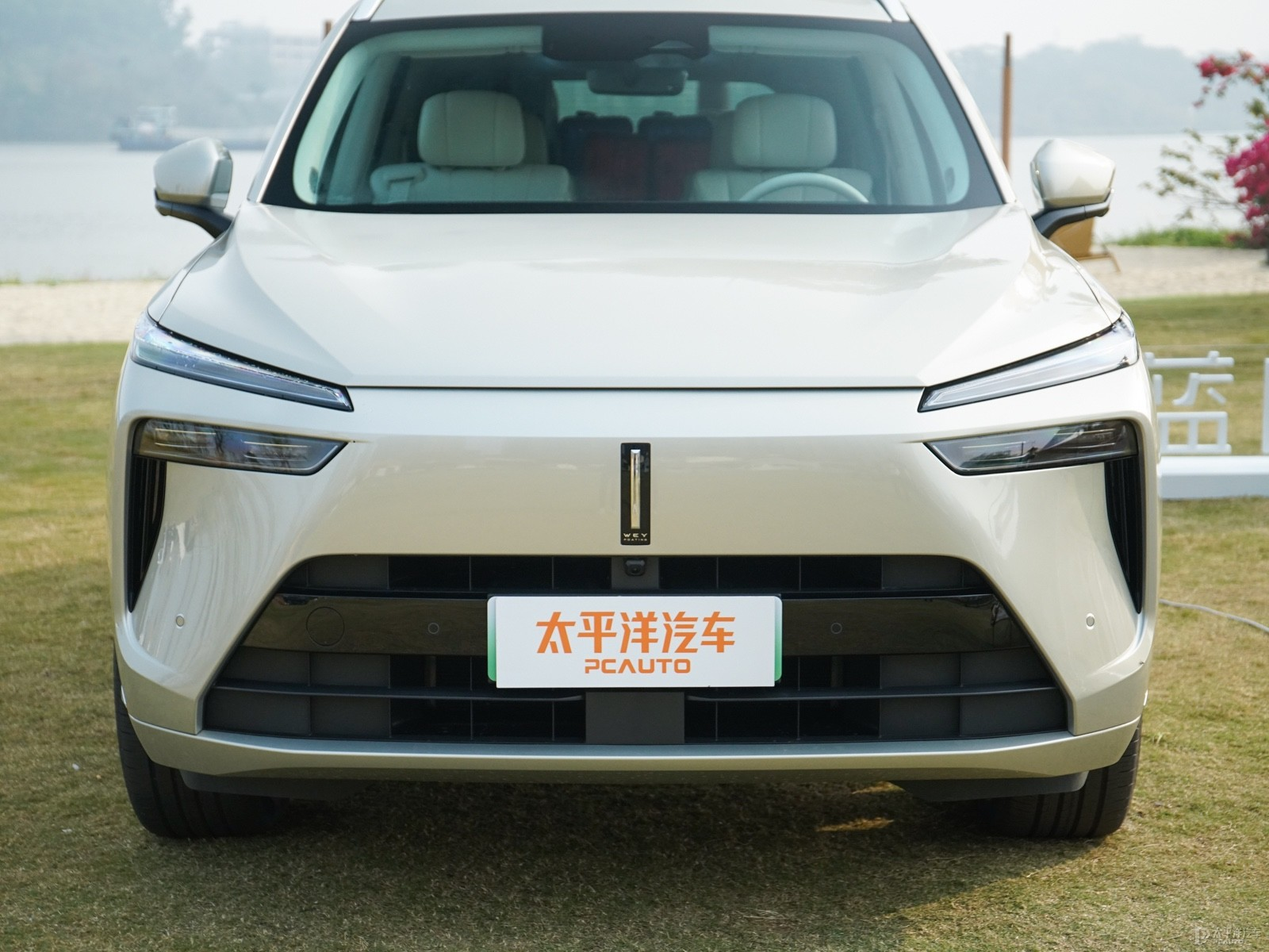WEY: (620, 443, 651, 545)
